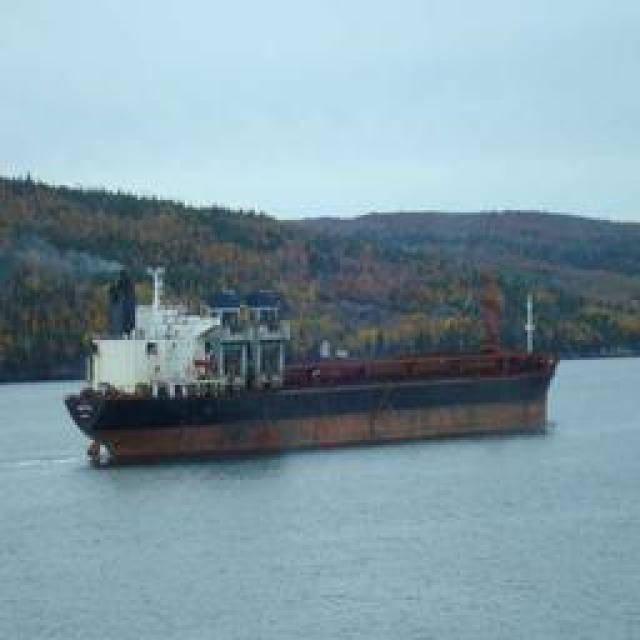CIV_Ship: (76, 327, 552, 465)
